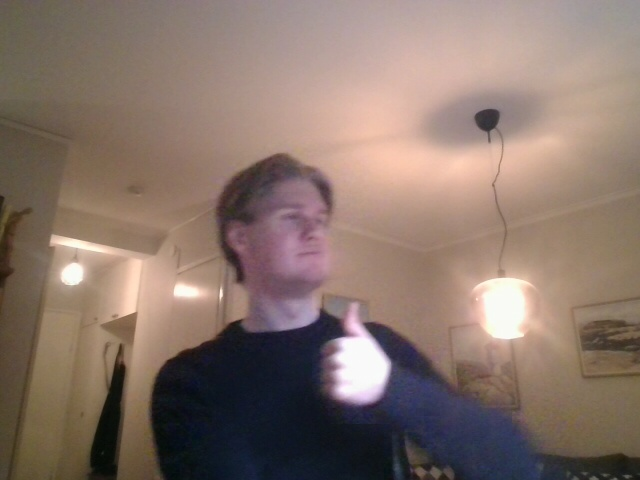ThumbsUp: (318, 301, 388, 407)
